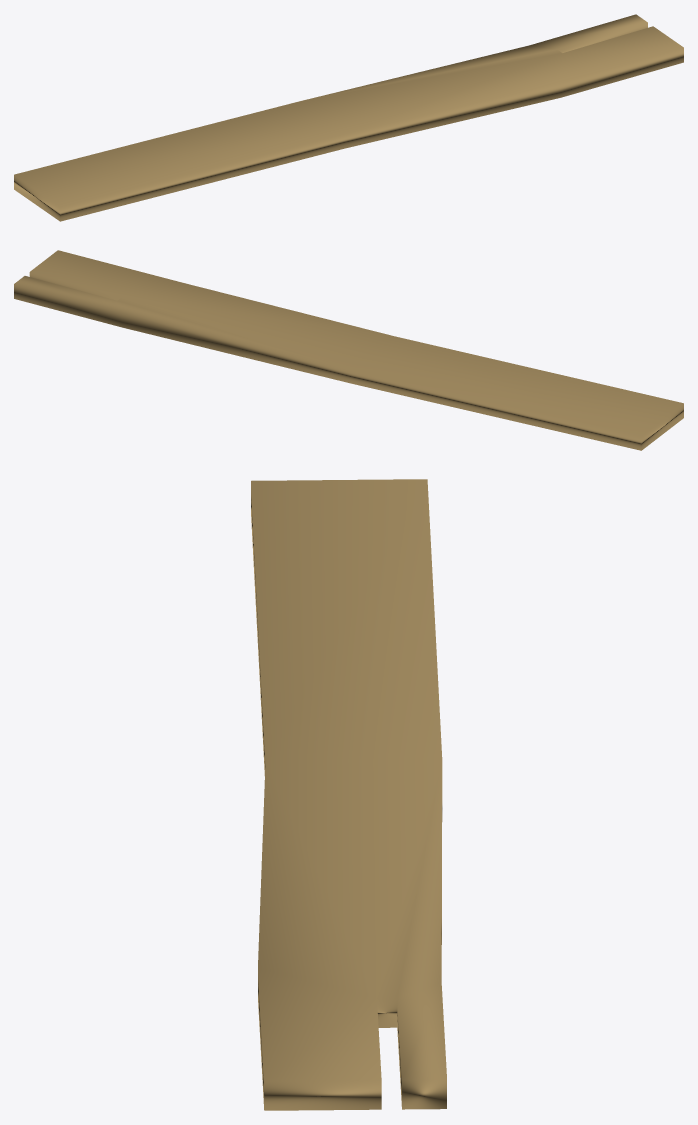
Rendered from Board_02.fbx.
3 renders of one model, top to bottom at view 1: azimuth 30°, elevation 25°; view 2: azimuth 150°, elevation 25°; view 3: azimuth 270°, elevation 25°, orthographic. The views are drawn at different scales.
Visible parts, largest first — view 1: Board_02; view 2: Board_02; view 3: Board_02.
Boxes of the visible parts, left/top/right/bottom form: Board_02: left=14, top=14, right=683, bottom=221; Board_02: left=14, top=250, right=683, bottom=450; Board_02: left=251, top=479, right=446, bottom=1110.
Size of the model in its own units: 145 by 4.1 by 19.74.
